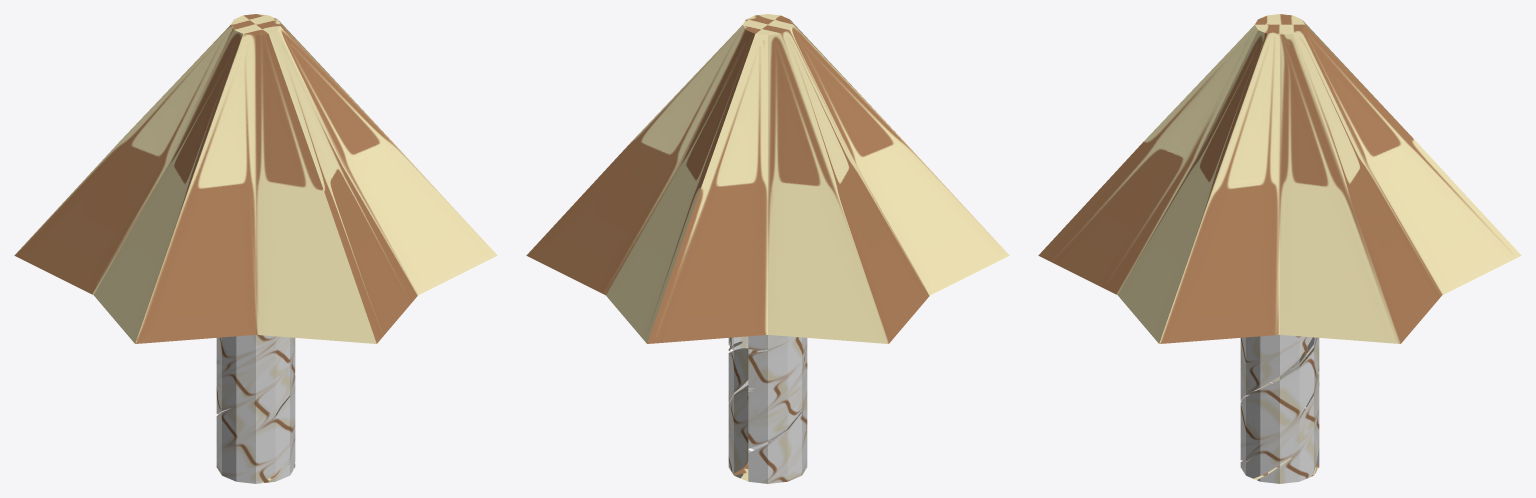
The model's file is sombrilla.fbx.
3 views of the same model, side by side, from view 1: azimuth 30°, elevation 25°; view 2: azimuth 150°, elevation 25°; view 3: azimuth 270°, elevation 25° (orthographic).
Visible parts, largest first — view 1: pCylinder2; view 2: pCylinder2; view 3: pCylinder2.
Boxes of the visible parts, x1,y1,x2,y2 form: pCylinder2: [14, 14, 497, 483]; pCylinder2: [526, 14, 1009, 483]; pCylinder2: [1038, 14, 1521, 483].
Bounding box in the file's own units: 32.38 × 37.78 × 37.38.
1 material, 1 textured.
